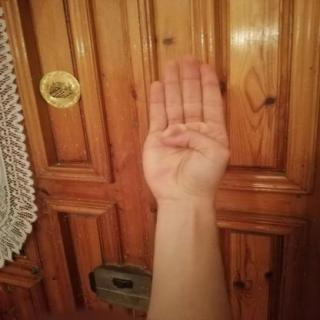KAAF: (127, 47, 240, 211)
